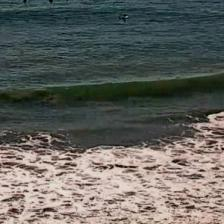surfer: (121, 13, 129, 17), (122, 18, 128, 23), (22, 0, 27, 4), (48, 0, 54, 3), (65, 0, 72, 2), (75, 0, 81, 1)
